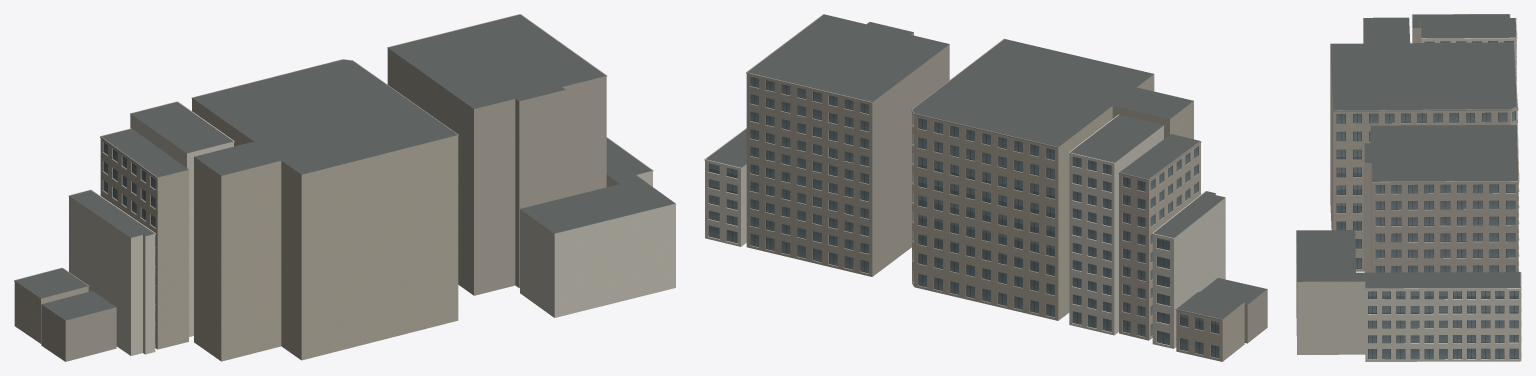
File: near.gltf
The picture shows the model from 3 angles, left to right: view 1: azimuth 30°, elevation 25°; view 2: azimuth 150°, elevation 25°; view 3: azimuth 270°, elevation 25°; orthographic projection. The views are drawn at different scales.
Visible parts, largest first — view 1: cell-e002-s001_near_stone, cell-e002-s001_near_roof, cell-e002-s001_near_tile-wall, cell-e002-s001_near_plaster, cell-e002-s001_near_granite, cell-e002-s001_near_glass; view 2: cell-e002-s001_near_roof, cell-e002-s001_near_stone, cell-e002-s001_near_tile-wall, cell-e002-s001_near_glass, cell-e002-s001_near_plaster, cell-e002-s001_near_frame, cell-e002-s001_near_granite; view 3: cell-e002-s001_near_roof, cell-e002-s001_near_plaster, cell-e002-s001_near_glass, cell-e002-s001_near_tile-wall, cell-e002-s001_near_stone, cell-e002-s001_near_frame, cell-e002-s001_near_granite.
Part boxes in pixels (bbox=[...]): cell-e002-s001_near_stone: bbox=[14, 98, 458, 361]; cell-e002-s001_near_roof: bbox=[15, 14, 675, 320]; cell-e002-s001_near_tile-wall: bbox=[41, 14, 607, 361]; cell-e002-s001_near_plaster: bbox=[68, 101, 675, 355]; cell-e002-s001_near_granite: bbox=[14, 59, 458, 345]; cell-e002-s001_near_glass: bbox=[103, 142, 155, 343]; cell-e002-s001_near_roof: bbox=[706, 14, 1266, 319]; cell-e002-s001_near_stone: bbox=[912, 74, 1244, 361]; cell-e002-s001_near_tile-wall: bbox=[746, 14, 1267, 343]; cell-e002-s001_near_glass: bbox=[709, 77, 1219, 357]; cell-e002-s001_near_plaster: bbox=[704, 114, 1225, 348]; cell-e002-s001_near_frame: bbox=[708, 77, 1218, 357]; cell-e002-s001_near_granite: bbox=[911, 38, 1222, 358]; cell-e002-s001_near_roof: bbox=[1296, 14, 1520, 288]; cell-e002-s001_near_plaster: bbox=[1296, 17, 1521, 361]; cell-e002-s001_near_glass: bbox=[1337, 41, 1518, 358]; cell-e002-s001_near_tile-wall: bbox=[1364, 124, 1519, 272]; cell-e002-s001_near_stone: bbox=[1330, 24, 1517, 271]; cell-e002-s001_near_frame: bbox=[1336, 41, 1518, 359]; cell-e002-s001_near_granite: bbox=[1333, 14, 1518, 269].
Size of the model in its own units: 98.24 by 31.76 by 40.08.
Materials: 7 (5 with a texture image).
